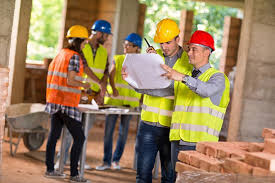hard hat: (184, 30, 215, 52), (153, 18, 179, 43), (90, 19, 113, 35), (65, 25, 89, 40), (123, 33, 142, 47)
high-vis: (169, 69, 228, 140), (140, 48, 190, 126), (46, 47, 83, 108), (104, 53, 142, 107), (80, 42, 108, 92)
